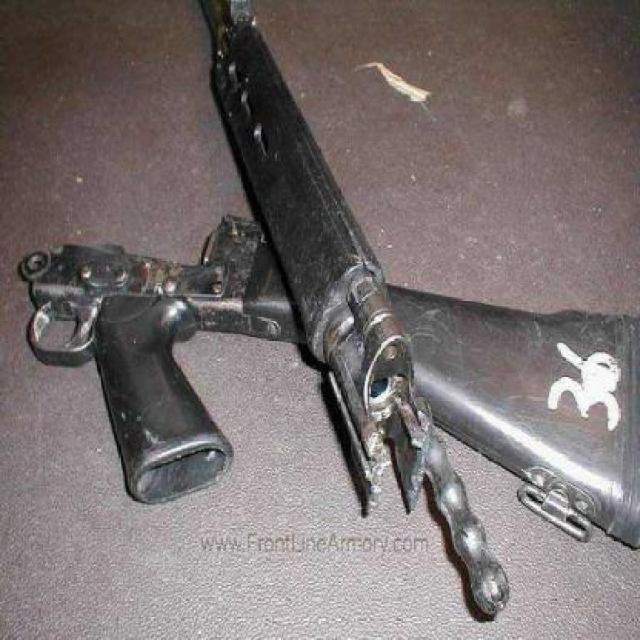weapon: (193, 0, 516, 615), (22, 226, 640, 544)
